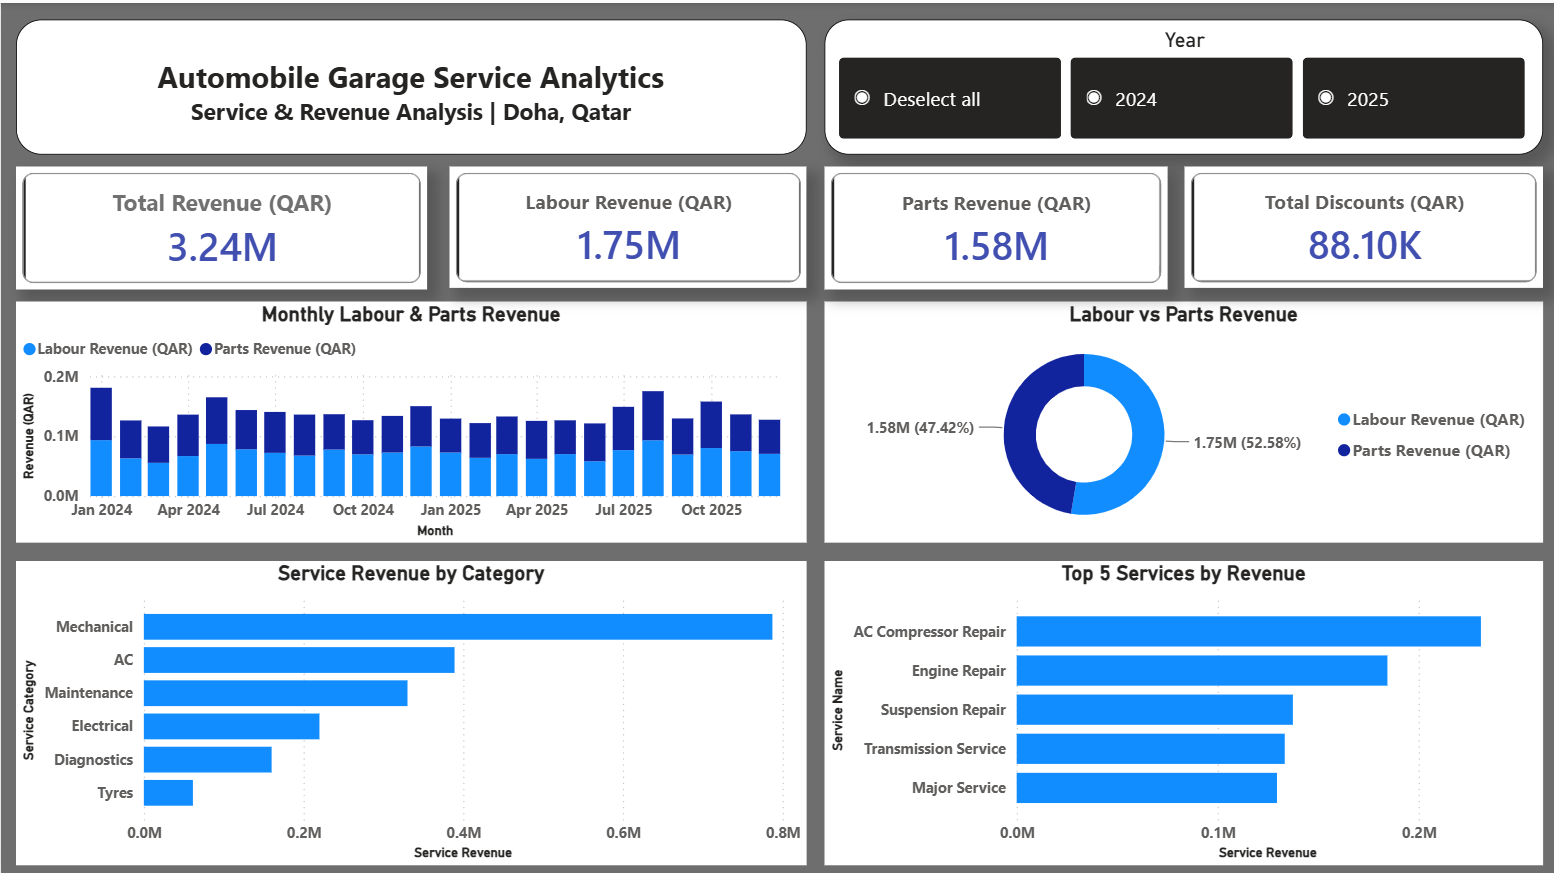

Layout of this report page (visuals, bound fields, positions):
{"tool":"powerbi","page":{"name":"Service & Revenue Analysis","canvas":[1280,720],"ordinal":1},"visuals":[{"type":"cardVisual","title":"Total Revenue (QAR)","fields":{"Data":["WorkOrdersTable.Total Revenue"]},"box":[12.4,134.7,338.6,101.3],"z":0},{"type":"textbox","box":[12.4,13.6,651.2,111.2],"z":1000},{"type":"advancedSlicerVisual","fields":{"Values":["DateTable.Year"]},"box":[678.4,13.6,591.9,111.2],"z":2000},{"type":"columnChart","title":"Monthly Labour & Parts Revenue","fields":{"Category":["DateTable.Month Start"],"Y":["WorkOrdersTable.Labour Revenue (QAR)","WorkOrdersTable.Parts Revenue (QAR)"]},"box":[12.4,245.9,651.2,199],"z":3000},{"type":"donutChart","title":"Labour vs Parts Revenue","fields":{"Y":["WorkOrdersTable.Labour Revenue (QAR)","WorkOrdersTable.Parts Revenue (QAR)"]},"box":[678.4,245.9,591.9,199],"z":4000},{"type":"clusteredBarChart","title":"Service Revenue by Category","fields":{"Category":["ServicesTable.ServiceCategory"],"Y":["ServicesTable.Service Revenue"]},"box":[12.4,459.7,651.2,250.9],"z":5000},{"type":"clusteredBarChart","title":"Top 5 Services by Revenue","fields":{"Category":["ServicesTable.ServiceName"],"Y":["ServicesTable.Service Revenue"]},"box":[678.4,459.7,591.9,250.9],"z":6000},{"type":"cardVisual","title":"Total Revenue (QAR)","fields":{"Data":["WorkOrdersTable.Labour Revenue (QAR)"]},"box":[369.5,134.7,294.1,100.1],"z":7000},{"type":"cardVisual","title":"Total Revenue (QAR)","fields":{"Data":["WorkOrdersTable.Parts Revenue (QAR)"]},"box":[678.4,134.7,283,101.3],"z":8000},{"type":"cardVisual","title":"Total Revenue (QAR)","fields":{"Data":["WorkOrdersTable.Total Discounts (QAR)"]},"box":[975,134.7,295.3,100.1],"z":9000}]}

Visuals, with their boxes in screenshot pixels (x1, y1, x2, y2), scaled from the page's 1280x720 canvas onto the 1554x873 screenshot:
"Total Revenue (QAR)" cardVisual: 15,163,426,286
textbox: 15,16,806,151
advancedSlicerVisual - DateTable.Year: 824,16,1542,151
"Monthly Labour & Parts Revenue" columnChart: 15,298,806,539
"Labour vs Parts Revenue" donutChart: 824,298,1542,539
"Service Revenue by Category" clusteredBarChart: 15,557,806,862
"Top 5 Services by Revenue" clusteredBarChart: 824,557,1542,862
"Total Revenue (QAR)" cardVisual: 449,163,806,285
"Total Revenue (QAR)" cardVisual: 824,163,1167,286
"Total Revenue (QAR)" cardVisual: 1184,163,1542,285
